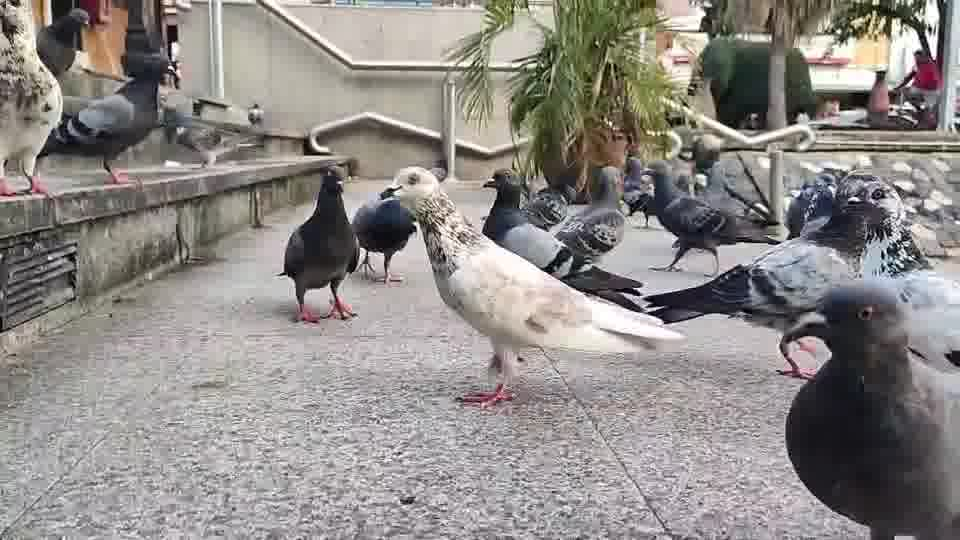Pigeon: (377, 164, 687, 409), (637, 171, 929, 380), (781, 272, 959, 538), (479, 166, 648, 314), (44, 53, 181, 184), (639, 159, 783, 277), (273, 168, 360, 323), (0, 0, 64, 196), (833, 171, 933, 278), (162, 96, 264, 168), (350, 192, 417, 287)
